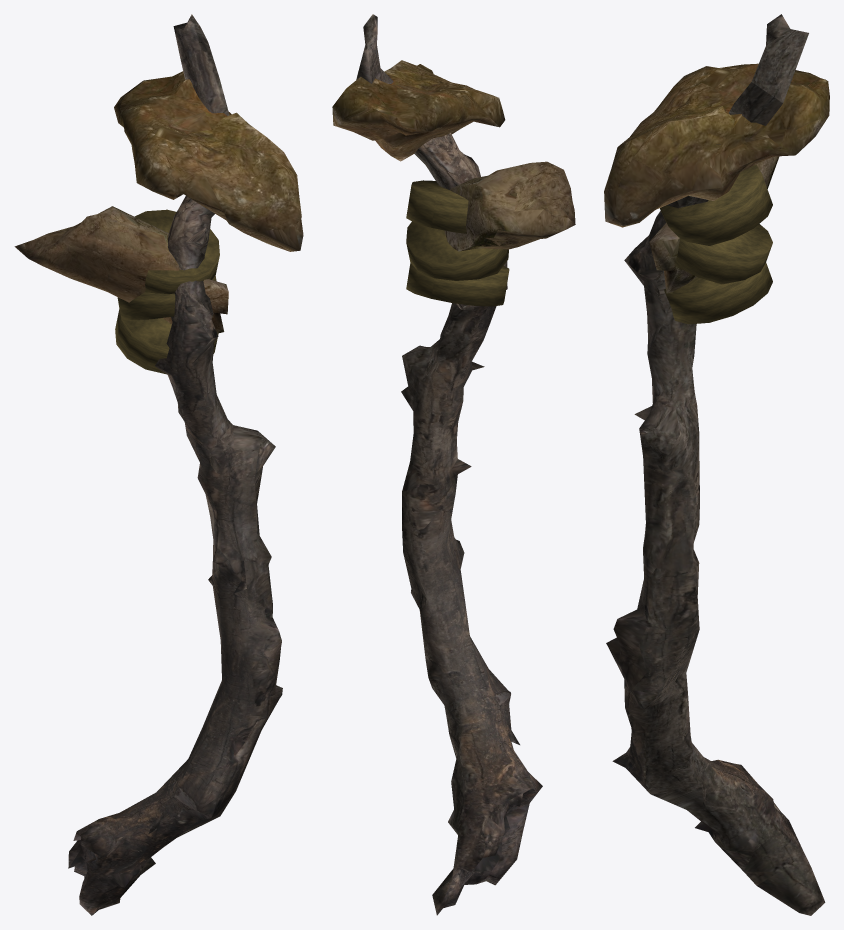
Rendered from SM_Club.fbx.
3 views of the same model, side by side, from view 1: azimuth 30°, elevation 25°; view 2: azimuth 150°, elevation 25°; view 3: azimuth 270°, elevation 25° (orthographic). The views are drawn at different scales.
Parts seen in each view (by area): view 1: SM_Club; view 2: SM_Club; view 3: SM_Club.
Boxes of the visible parts, x1,y1,x2,y2 form: SM_Club: (14, 14, 303, 915); SM_Club: (332, 14, 575, 915); SM_Club: (604, 14, 829, 915).
Size of the model in its own units: 0.2304 by 0.86 by 0.1867.
